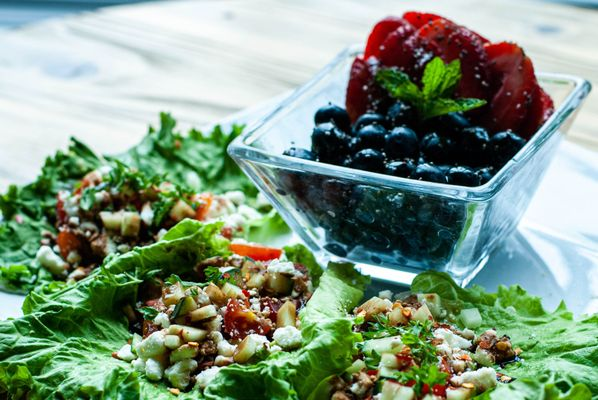curry: (370, 55, 488, 122)
sushi: (227, 9, 594, 290)
